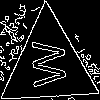W: (23, 39, 66, 89)
